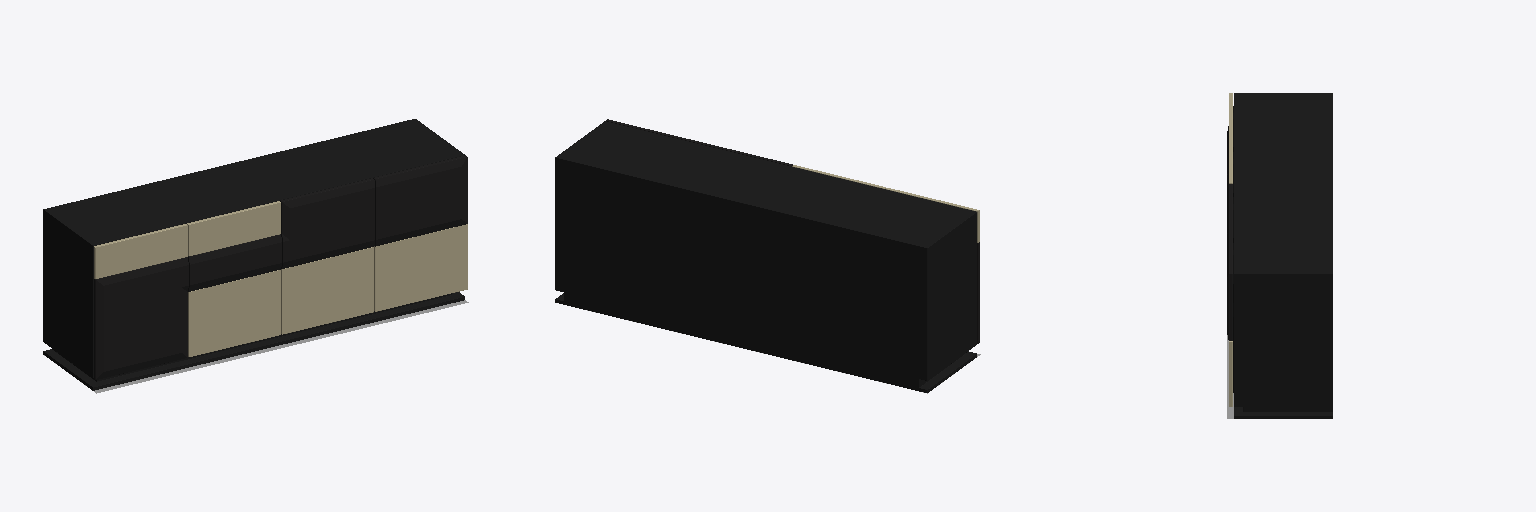
File: Buffet_Moderne.obj
The picture shows the model from 3 angles: view 1: azimuth 30°, elevation 25°; view 2: azimuth 150°, elevation 25°; view 3: azimuth 270°, elevation 25°; orthographic projection.
Parts seen in each view (by area): view 1: default_1_2, default_1_3, default_1_4, ground_1; view 2: default_1_2, default_1_3, default_1_4; view 3: default_1_2, default_1_3, default_1_4.
Boxes of the visible parts, <box> form: default_1_2: <box>43,119,464,390</box>; default_1_3: <box>94,155,467,379</box>; default_1_4: <box>94,201,467,356</box>; ground_1: <box>44,300,468,393</box>; default_1_2: <box>555,121,976,392</box>; default_1_3: <box>606,119,979,343</box>; default_1_4: <box>792,165,979,242</box>; default_1_2: <box>1233,93,1332,418</box>; default_1_3: <box>1227,126,1232,340</box>; default_1_4: <box>1229,93,1232,406</box>.
Size of the model in its own units: 220 by 82 by 54.5.